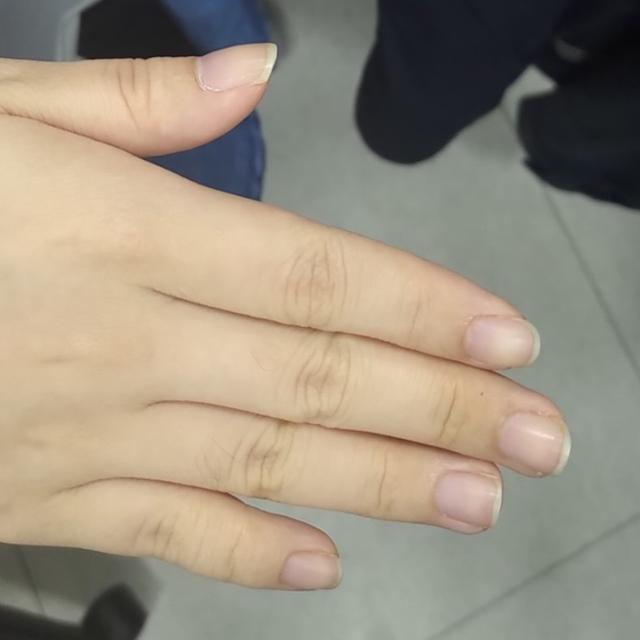Nail: (499, 412, 572, 476), (465, 316, 542, 369), (196, 42, 277, 91), (435, 471, 503, 529), (280, 553, 341, 591)
